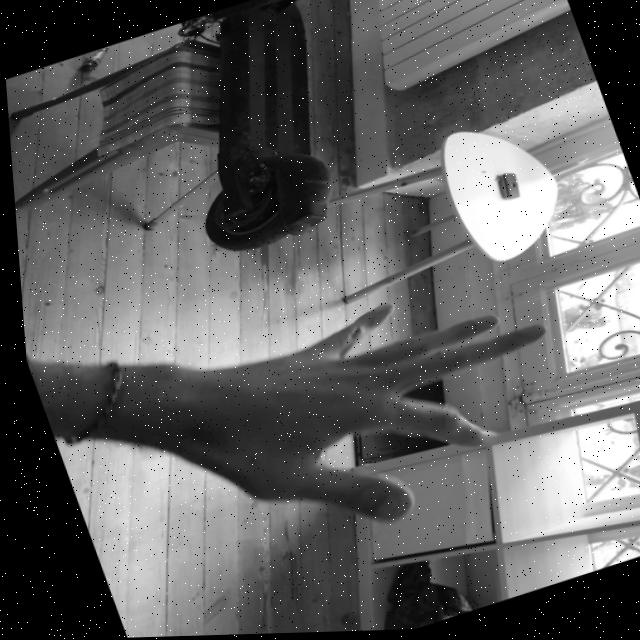hand: (171, 258, 595, 572)
